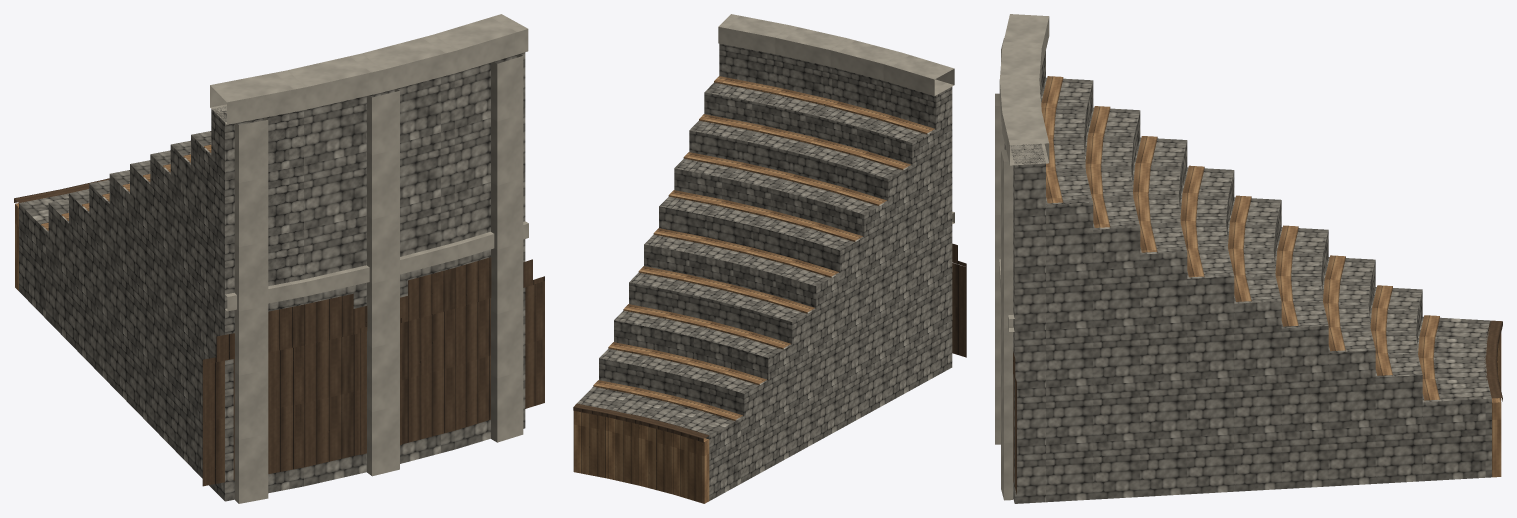
The model's file is Arena_Stands_1.gltf.
The picture shows the model from 3 angles, left to right: view 1: azimuth 30°, elevation 25°; view 2: azimuth 150°, elevation 25°; view 3: azimuth 270°, elevation 25°; orthographic projection. The views are drawn at different scales.
Parts seen in each view (by area): view 1: Arena_Stands_1; view 2: Arena_Stands_1; view 3: Arena_Stands_1.
Boxes of the visible parts, x1,y1,x2,y2 form: Arena_Stands_1: (14, 14, 544, 503); Arena_Stands_1: (573, 14, 966, 503); Arena_Stands_1: (995, 14, 1502, 503).
Bounding box in the file's own units: 11.16 × 12.5 × 16.04.
4 materials, 4 textured.
